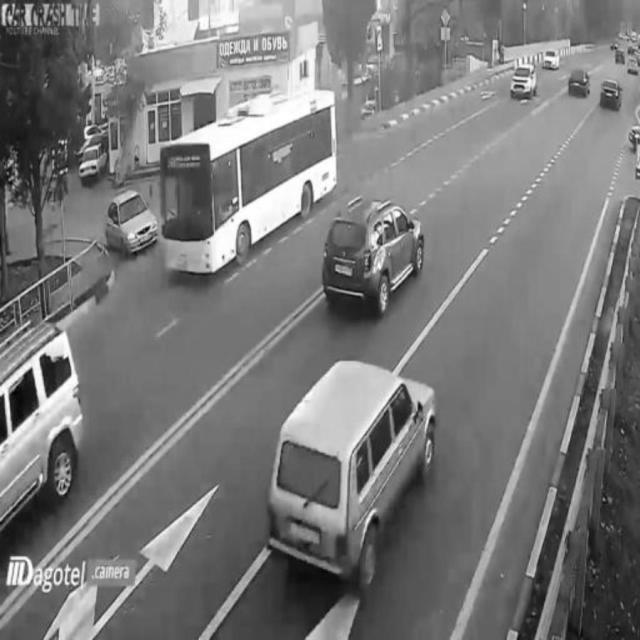vehicle: (269, 372, 439, 587), (171, 95, 335, 265), (1, 326, 94, 534), (324, 204, 426, 310), (107, 194, 159, 255), (76, 141, 106, 188), (511, 53, 538, 101), (537, 41, 563, 83), (600, 68, 620, 118), (570, 62, 592, 98), (623, 46, 640, 80)
